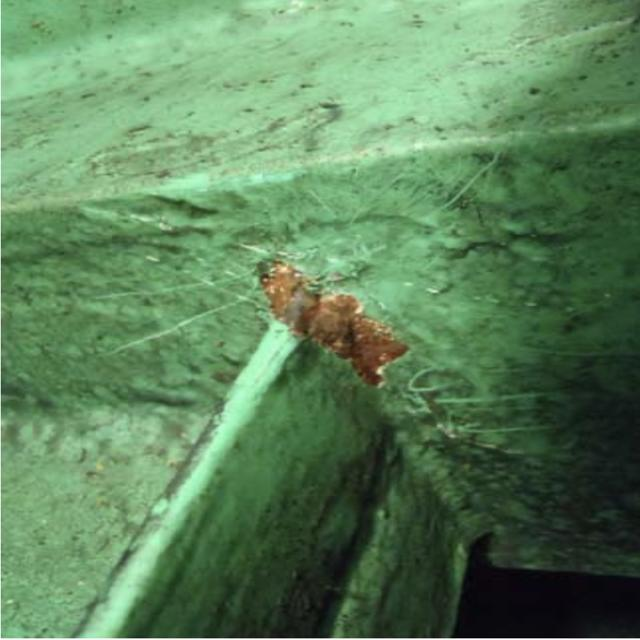corrosion: (249, 243, 400, 396)
